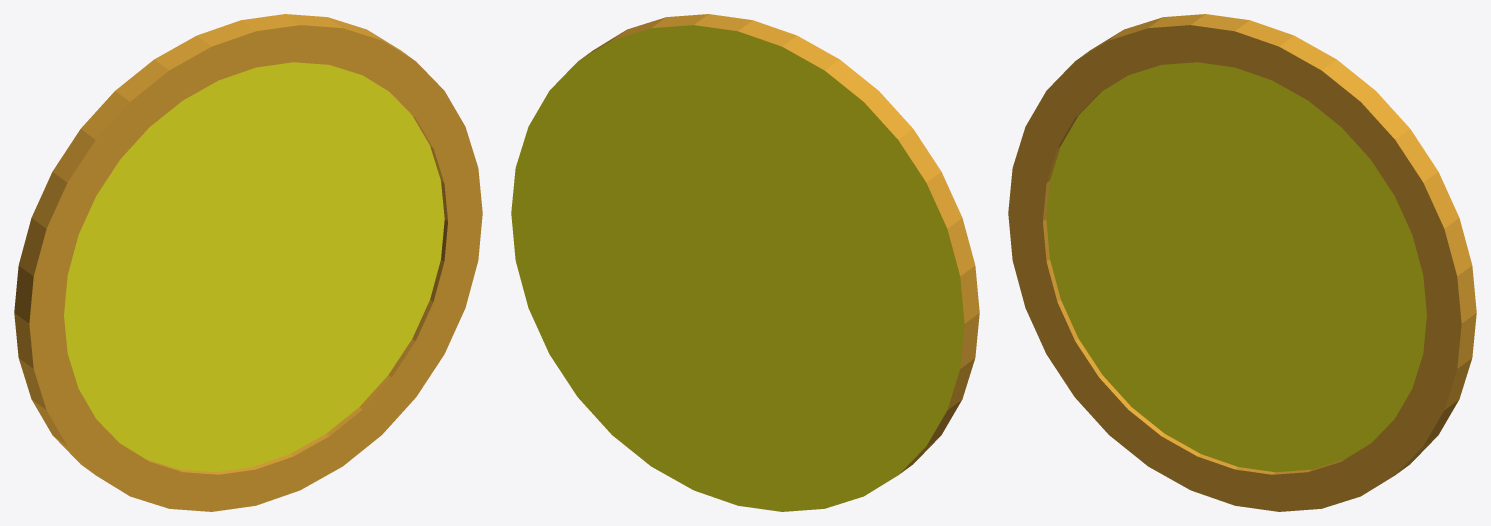
File: moeda.fbx
3 renders of one model, left to right at view 1: azimuth 30°, elevation 25°; view 2: azimuth 150°, elevation 25°; view 3: azimuth 330°, elevation 25°, orthographic.
Visible parts, largest first — view 1: Cylinder; view 2: Cylinder; view 3: Cylinder.
Part boxes in pixels (x1,y1,x2,y2): Cylinder: (14,14,482,511); Cylinder: (511,14,979,511); Cylinder: (1008,14,1476,511).
Size of the model in its own units: 200 by 200 by 11.56.
